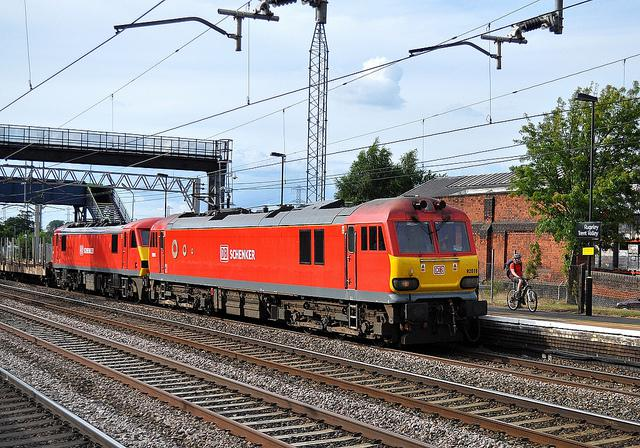Train: (49, 195, 490, 352)
